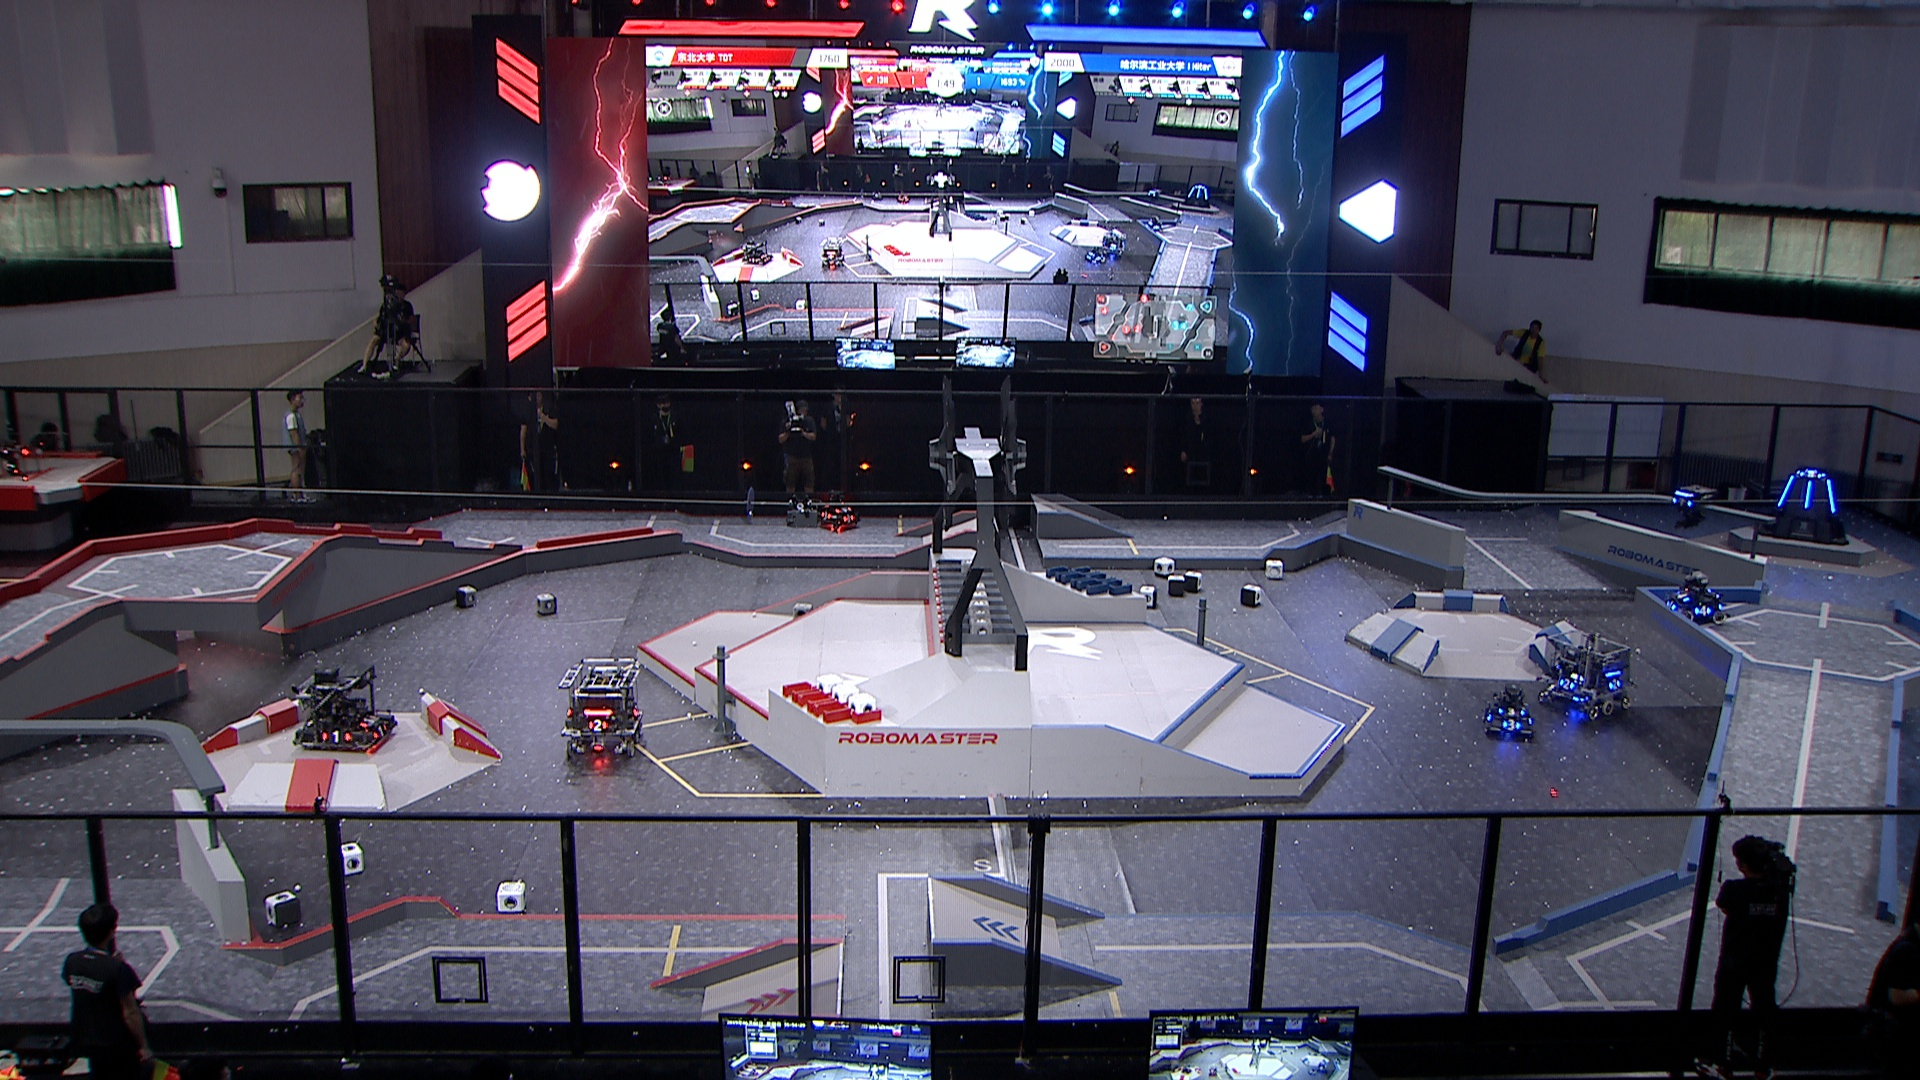armor: (1774, 471, 1797, 508), (316, 727, 353, 746), (1822, 476, 1840, 516), (1494, 704, 1528, 717), (357, 708, 380, 728), (1803, 477, 1816, 509), (368, 723, 390, 741), (584, 716, 608, 733), (1669, 493, 1695, 509), (1501, 716, 1523, 732), (1557, 675, 1576, 694), (836, 509, 856, 526), (1799, 469, 1826, 481), (1673, 589, 1692, 607), (632, 699, 647, 719), (1693, 603, 1714, 617), (1665, 597, 1681, 613), (1607, 676, 1622, 694), (833, 502, 855, 513), (1484, 704, 1495, 723), (818, 508, 835, 520)
base: (1755, 462, 1854, 546)
car: (291, 659, 400, 756), (1532, 629, 1634, 725), (566, 651, 647, 764), (1662, 568, 1727, 624), (1480, 680, 1538, 738), (811, 488, 861, 534)
ignore: (737, 235, 774, 264), (820, 235, 847, 272), (1096, 229, 1126, 261), (1182, 185, 1212, 210), (1083, 244, 1112, 266), (1141, 185, 1166, 204), (1147, 214, 1166, 233)
watcher: (1665, 476, 1717, 531)
